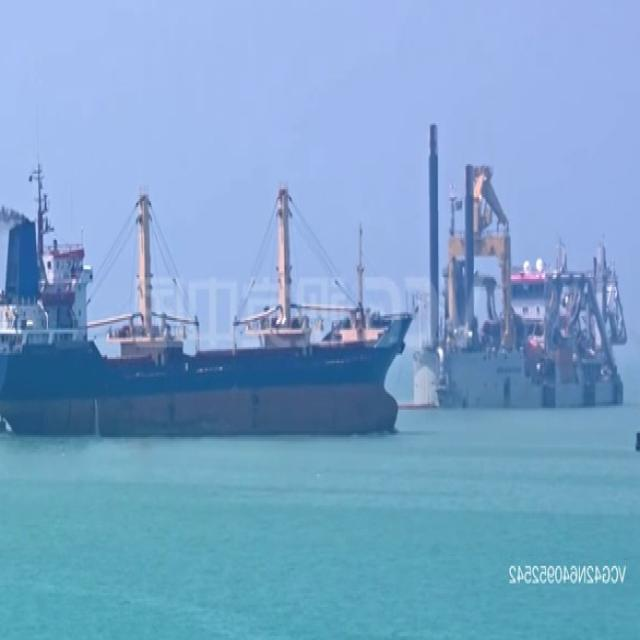cargoship: (0, 164, 416, 439), (411, 124, 630, 408)
